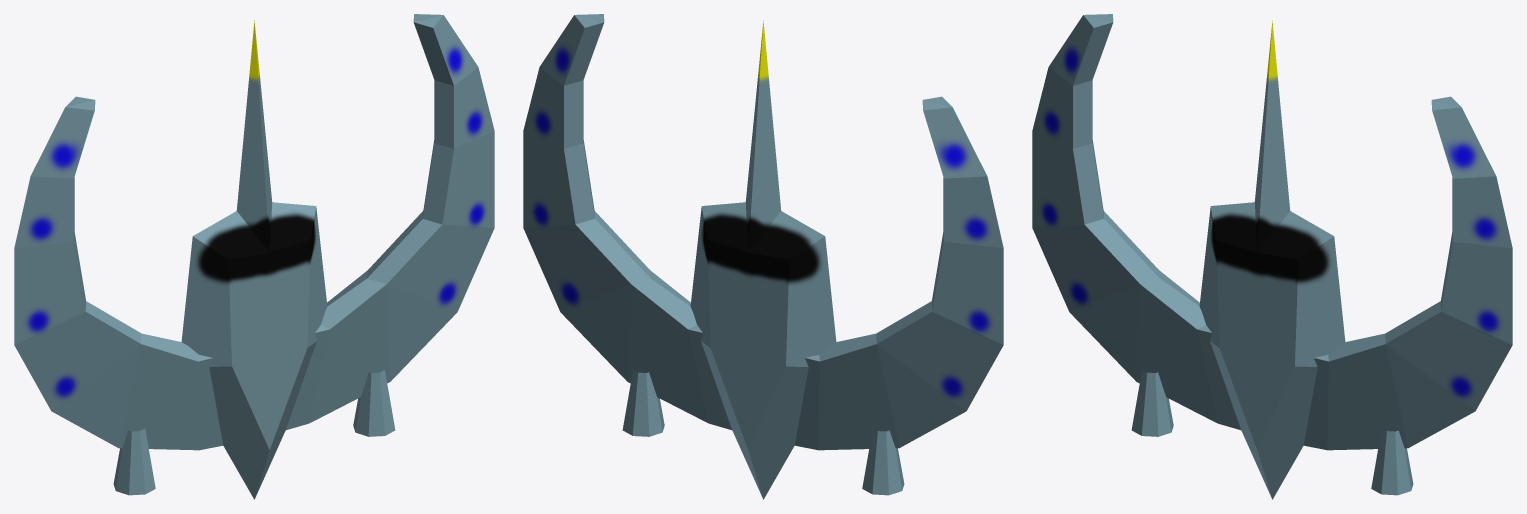
The model's file is Spaceship.fbx.
3 renders of one model, left to right at view 1: azimuth 30°, elevation 25°; view 2: azimuth 150°, elevation 25°; view 3: azimuth 330°, elevation 25°, orthographic.
Visible parts, largest first — view 1: Spaceship; view 2: Spaceship; view 3: Spaceship.
Part boxes in pixels (x1,y1,x2,y2): Spaceship: [14, 14, 494, 499]; Spaceship: [523, 14, 1003, 499]; Spaceship: [1032, 14, 1512, 499].
Size of the model in its own units: 25388 by 24247 by 2782.
